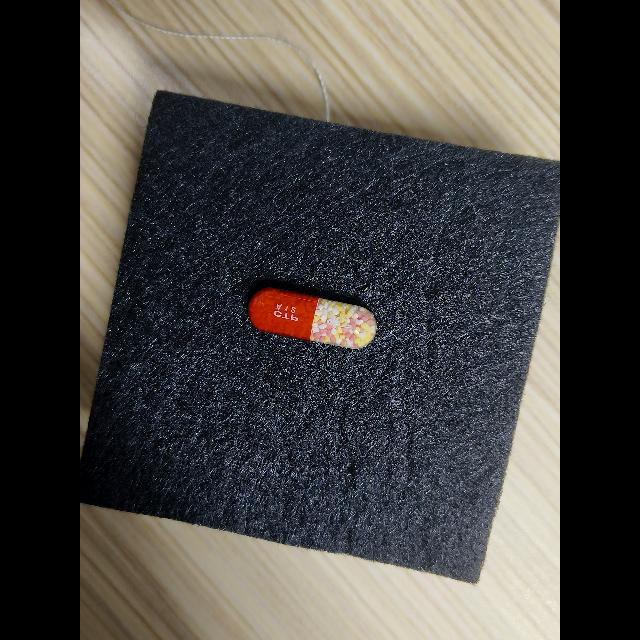Intact Capsule: (248, 288, 376, 349)
